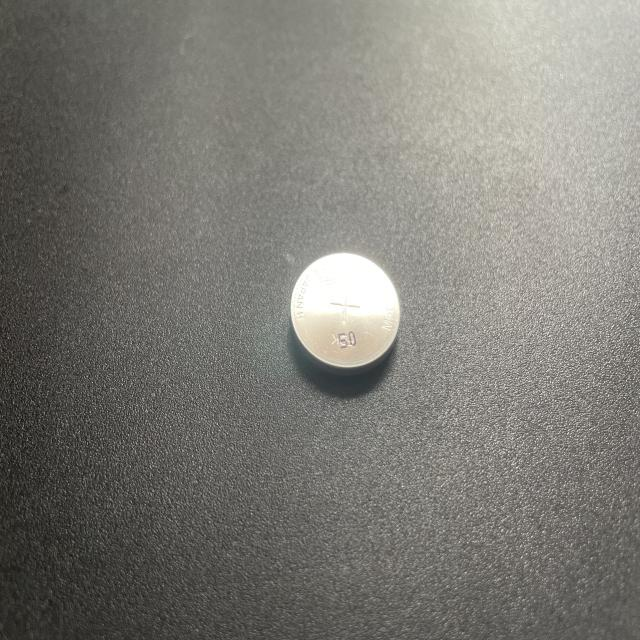COIN: (286, 250, 403, 374)
